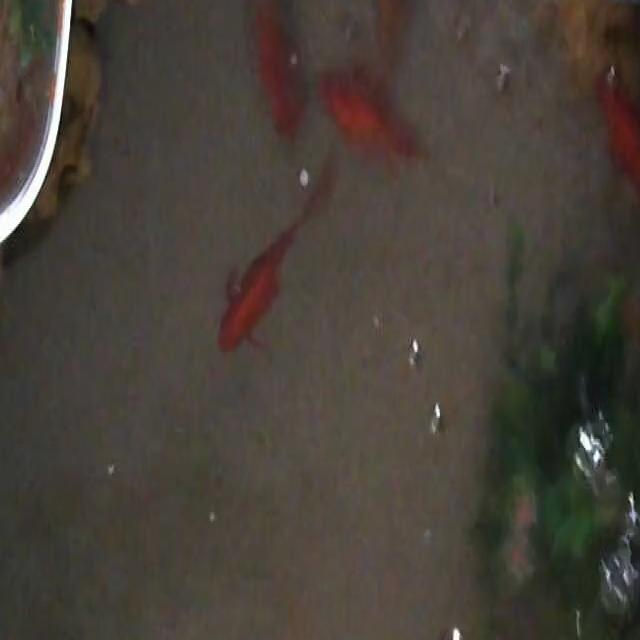fish: (188, 180, 342, 348), (566, 39, 640, 253), (327, 49, 429, 184), (231, 0, 316, 148), (370, 0, 410, 75)
